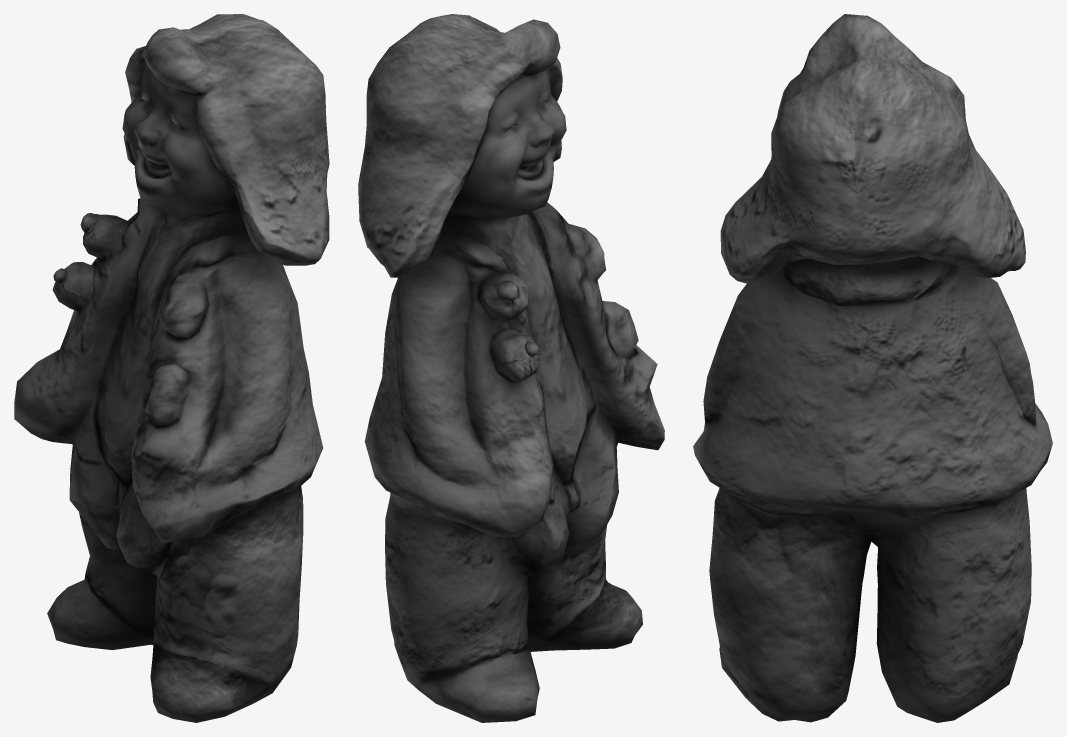
Rendered from MudDoll_girl.dae.
3 renders of one model, left to right at view 1: azimuth 30°, elevation 25°; view 2: azimuth 150°, elevation 25°; view 3: azimuth 270°, elevation 25°, orthographic. The views are drawn at different scales.
Visible parts, largest first — view 1: MudDoll_girl; view 2: MudDoll_girl; view 3: MudDoll_girl.
Boxes of the visible parts, x1=… form: MudDoll_girl: x1=14, y1=14, x2=329, y2=722; MudDoll_girl: x1=358, y1=14, x2=664, y2=722; MudDoll_girl: x1=693, y1=14, x2=1052, y2=722.
Size of the model in its own units: 0.00356 by 0.00954 by 0.00462.
1 material, 1 textured.
